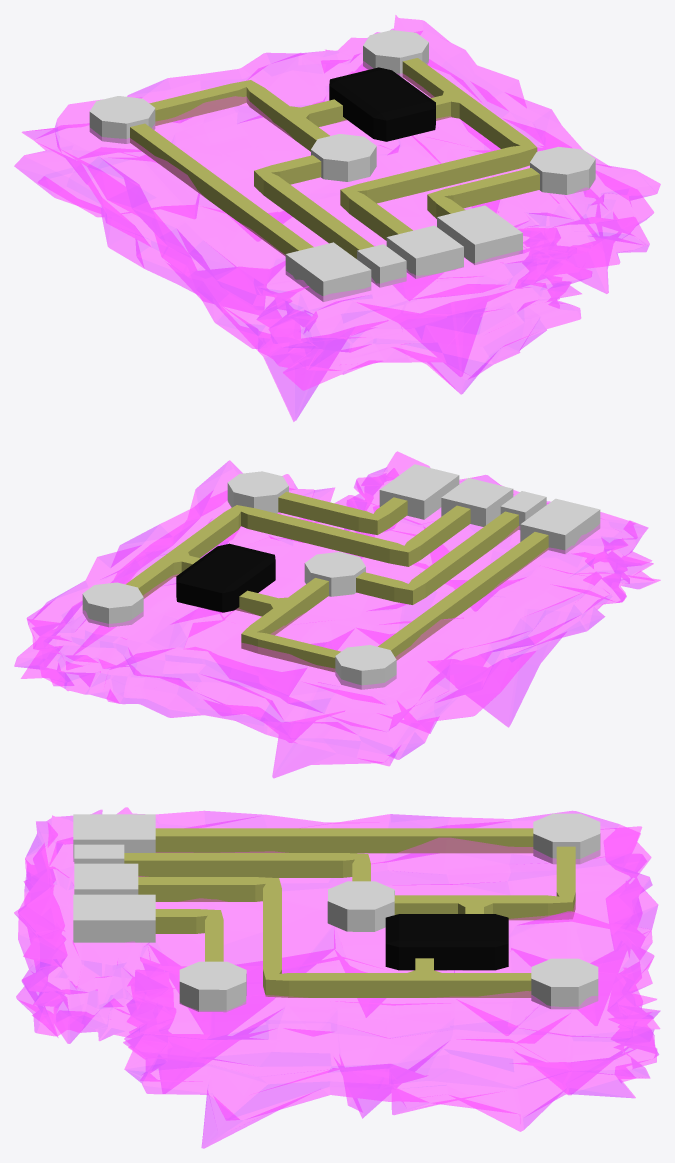
The model's file is CircuitCrystal.fbx.
3 views of the same model, one above another, from view 1: azimuth 30°, elevation 25°; view 2: azimuth 150°, elevation 25°; view 3: azimuth 270°, elevation 25° (orthographic). The views are drawn at different scales.
Parts seen in each view (by area): view 1: Circuit Crystal, Plane, Plane.002, Cube.005, Plane.001, Cube.003, Cube.001, Plane.003, Cube.002, Cylinder.009, Cylinder.010, Cylinder.008 (+2 smaller); view 2: Circuit Crystal, Plane, Plane.002, Cube.005, Plane.001, Plane.003, Cube.003, Cube.001, Cylinder, Cylinder.008, Cube.002, Cylinder.010 (+2 smaller); view 3: Circuit Crystal, Plane, Plane.002, Cube.005, Plane.001, Cube.001, Cylinder, Cylinder.010, Cylinder.009, Cube.003, Cylinder.008, Plane.003 (+2 smaller).
Part boxes in pixels (x1,y1,x2,y2): Circuit Crystal: [14, 15, 660, 421]; Plane: [130, 80, 346, 256]; Plane.002: [340, 58, 537, 240]; Cube.005: [329, 67, 435, 141]; Plane.001: [254, 155, 373, 258]; Cube.003: [285, 242, 371, 301]; Cube.001: [437, 205, 522, 264]; Plane.003: [427, 168, 539, 218]; Cube.002: [386, 225, 463, 278]; Cylinder.009: [311, 134, 376, 181]; Cylinder.010: [530, 146, 595, 194]; Cylinder.008: [89, 96, 155, 143]; Circuit Crystal: [14, 451, 660, 778]; Plane: [235, 532, 548, 672]; Plane.002: [126, 505, 470, 598]; Cube.005: [176, 543, 275, 612]; Plane.001: [356, 511, 518, 604]; Plane.003: [278, 491, 407, 534]; Cube.003: [520, 498, 600, 553]; Cube.001: [379, 464, 459, 519]; Cylinder: [82, 582, 143, 627]; Cylinder.008: [335, 645, 396, 689]; Cube.002: [441, 478, 513, 526]; Cylinder.010: [227, 471, 288, 513]; Circuit Crystal: [14, 807, 660, 1148]; Plane: [155, 828, 575, 920]; Plane.002: [138, 877, 531, 997]; Cube.005: [385, 914, 508, 970]; Plane.001: [124, 853, 370, 881]; Cube.001: [73, 894, 155, 942]; Cylinder: [531, 958, 598, 1009]; Cylinder.010: [179, 961, 246, 1012]; Cylinder.009: [327, 881, 394, 931]; Cube.003: [73, 814, 155, 861]; Cylinder.008: [533, 813, 600, 864]; Plane.003: [155, 909, 223, 961].
Size of the model in its own units: 176 by 81.07 by 211.
